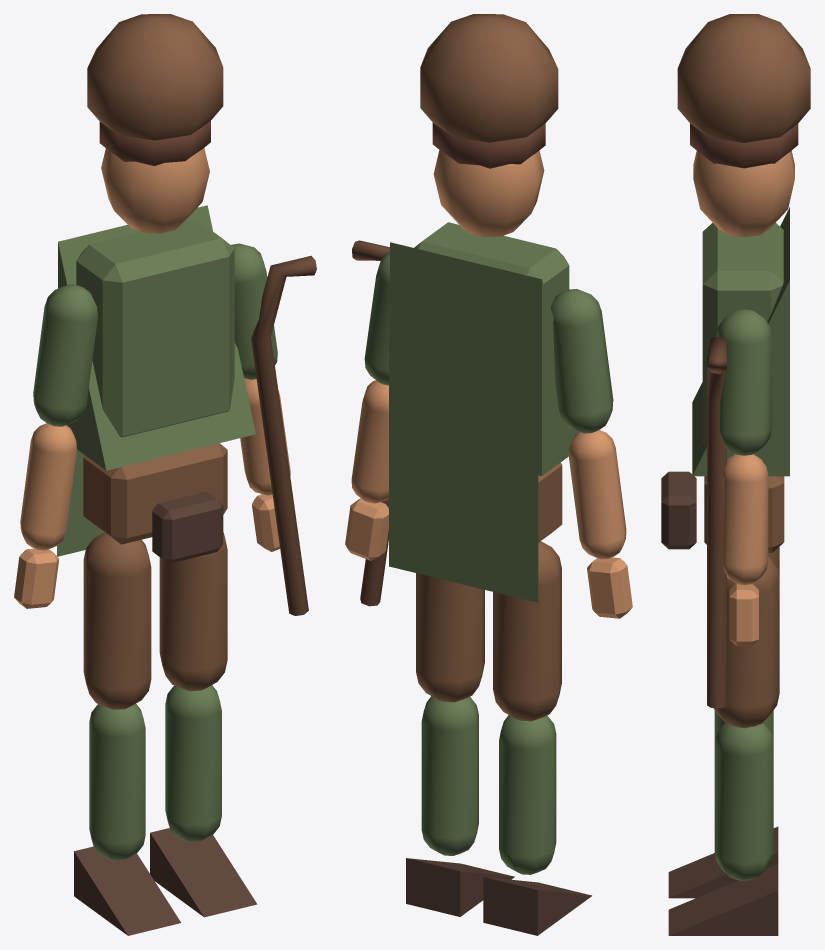
Rendered from adventurer.rustic.glb.
The picture shows the model from 3 angles, left to right: view 1: azimuth 30°, elevation 25°; view 2: azimuth 150°, elevation 25°; view 3: azimuth 270°, elevation 25°; orthographic projection.
Parts seen in each view (by area): view 1: torso, accessory.head, thigh.left, tunic, thigh.right, pelvis, shin.left, shin.right, accessory.main-hand, upper-arm.left, head, foot.left (+9 smaller); view 2: accessory.back, tunic, accessory.head, thigh.left, shin.left, shin.right, thigh.right, upper-arm.left, head, forearm.left, torso, foot.left (+8 smaller); view 3: accessory.head, shin.right, torso, upper-arm.right, accessory.main-hand, head, thigh.right, forearm.right, foot.right, tunic, accessory.waist, hair (+4 smaller).
Part boxes in pixels (<box>): torso: <box>76,219,234,437</box>; accessory.head: <box>87,14,223,140</box>; thigh.left: <box>83,532,151,709</box>; tunic: <box>58,205,255,470</box>; thigh.right: <box>159,532,227,691</box>; pelvis: <box>83,443,227,544</box>; shin.left: <box>89,704,145,860</box>; shin.right: <box>165,685,221,842</box>; accessory.main-hand: <box>251,255,316,615</box>; upper-arm.left: <box>33,284,97,426</box>; head: <box>101,148,209,233</box>; foot.left: <box>74,846,180,935</box>; accessory.back: <box>389,323,538,602</box>; tunic: <box>390,242,578,475</box>; accessory.head: <box>420,14,558,142</box>; thigh.left: <box>493,541,561,721</box>; shin.left: <box>499,715,556,874</box>; shin.right: <box>421,696,478,855</box>; thigh.right: <box>416,573,484,702</box>; upper-arm.left: <box>550,289,613,433</box>; head: <box>433,150,544,237</box>; forearm.left: <box>569,430,626,559</box>; torso: <box>414,222,569,306</box>; foot.left: <box>483,877,591,935</box>; accessory.head: <box>677,14,810,142</box>; shin.right: <box>714,723,773,881</box>; torso: <box>702,223,783,441</box>; upper-arm.right: <box>716,309,772,455</box>; accessory.main-hand: <box>707,336,726,708</box>; head: <box>693,151,794,237</box>; thigh.right: <box>713,557,779,728</box>; forearm.right: <box>723,454,768,584</box>; foot.right: <box>668,864,778,935</box>; tunic: <box>692,207,789,476</box>; accessory.waist: <box>661,471,696,549</box>; hair: <box>690,123,798,168</box>.
Size of the model in its own units: 1.11 by 3.29 by 0.5048.
